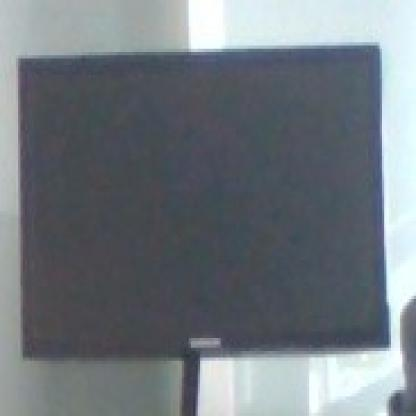not trash: (16, 42, 391, 356)
